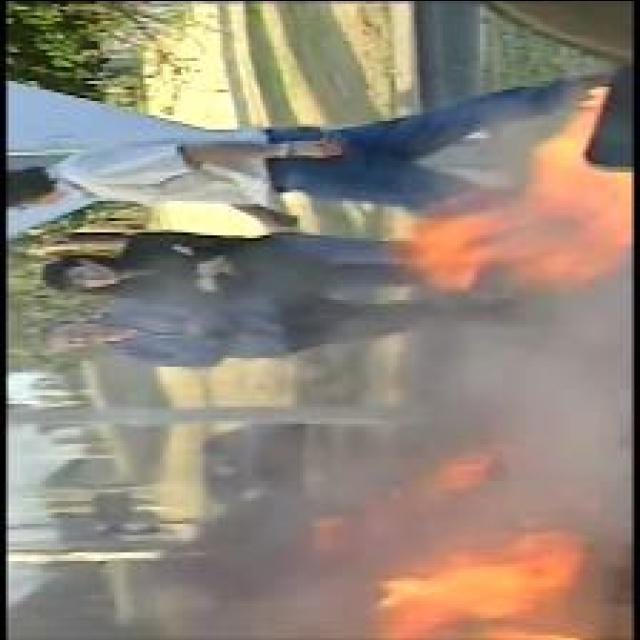Fire: (402, 87, 630, 290), (377, 526, 597, 640)
